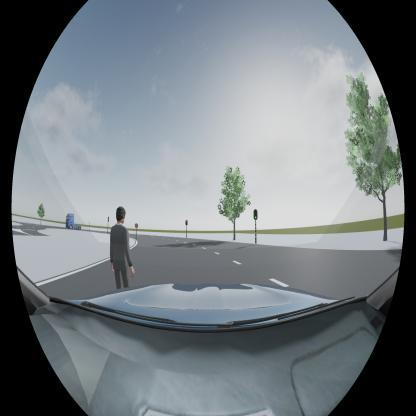Green Light: (254, 209, 258, 221)
Red Light: (185, 219, 188, 226)
